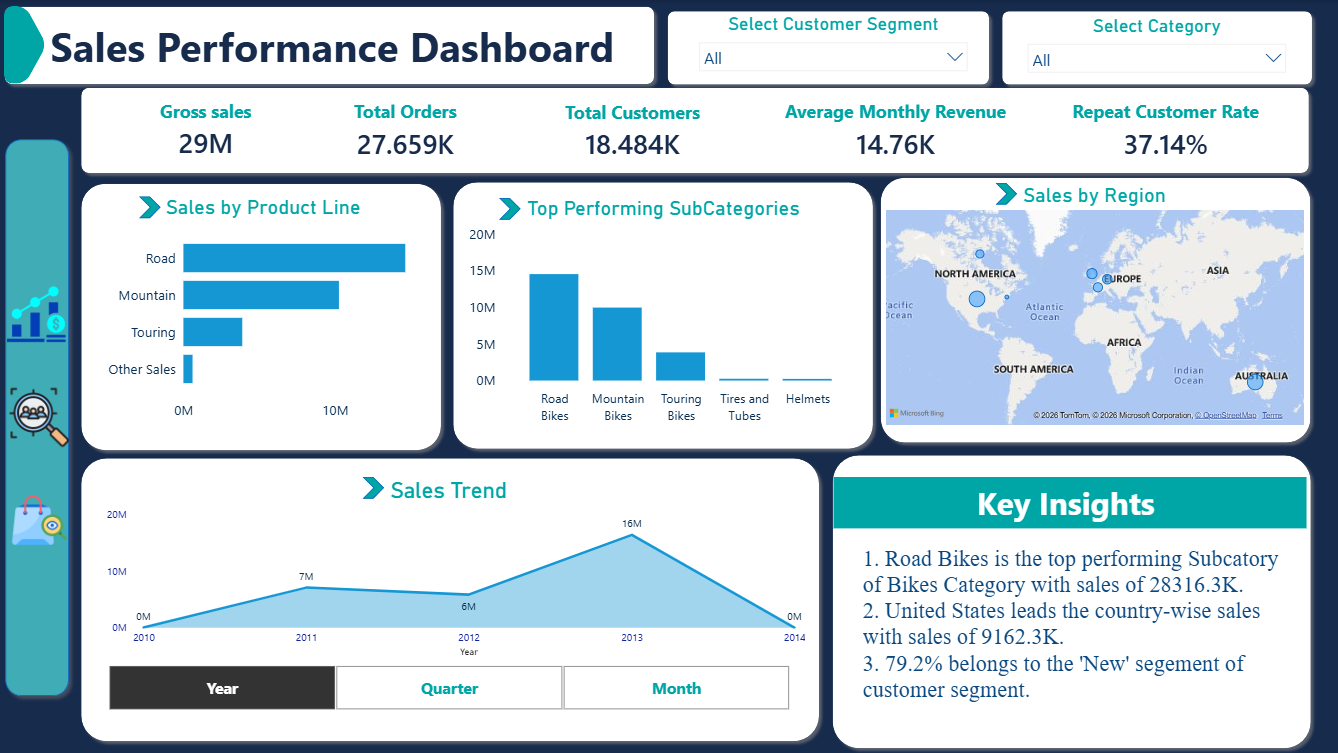

What the dashboard file says about the page in this screenshot:
{"tool":"powerbi","page":{"name":"Sales","canvas":[1600,900],"ordinal":0},"visuals":[{"type":"shape","box":[0,0,791.2,108.2],"z":0,"group":"g1"},{"type":"group","id":"g1","title":"Group 2","box":[0,0,1576.7,900.7],"z":0},{"type":"shape","box":[791.3,6,399.6,103.4],"z":1000,"group":"g1"},{"type":"textbox","box":[57.7,16.8,699.8,81.8],"z":1000},{"type":"shape","box":[1191,6,385.7,103.4],"z":2000,"group":"g1"},{"type":"slicer","fields":{"Values":["Select Date Granuality.Select Date Granuality"]},"box":[107.4,787.4,860.9,65.6],"z":2000},{"type":"shape","box":[535.9,208.8,516.9,334],"z":3000,"group":"g1"},{"type":"areaChart","title":"Sales Trend","fields":{"Category":["Gold fact_sales.month name"],"Y":["Sum(Gold fact_sales.sales_amount)"]},"box":[107.4,568.6,860.9,218.7],"z":3000},{"type":"columnChart","title":"Top Performing SubCategories","fields":{"Category":["Gold dim_product.Subcategory"],"Y":["Sum(Gold fact_sales.sales_amount)"]},"box":[556.7,234.6,475.2,278.4],"z":4000},{"type":"shape","box":[91.5,210.8,445.4,334],"z":5000,"group":"g1"},{"type":"map","title":"Sales by Region","fields":{"Category":["Gold dim_customers.country"],"Size":["Sum(Gold fact_sales.sales_amount)"]},"box":[1053.8,218.7,509,294.3],"z":5000},{"type":"shape","box":[1044.9,204.9,528.9,332],"z":6000,"group":"g1"},{"type":"barChart","title":"Sales by Product Line","fields":{"Category":["Gold dim_product.product_line"],"Y":["Sum(Gold fact_sales.sales_amount)"]},"box":[119.3,232.6,393.7,278.4],"z":6000},{"type":"slicer","title":"Select Customer Segment","fields":{"Values":["Gold cust_report.customer_segment"]},"box":[827.1,15.9,340,81.5],"z":7000},{"type":"shape","box":[91.5,538.8,896.7,353.9],"z":7000,"group":"g1"},{"type":"slicer","title":"Select Category","fields":{"Values":["Gold dim_product.category"]},"box":[1218.8,17.9,328.1,79.5],"z":8000},{"type":"shape","box":[988.2,534.8,586.5,365.8],"z":8000,"group":"g1"},{"type":"shape","box":[91.6,97.4,1481.4,117.8],"z":9000,"group":"g1"},{"type":"cardVisual","title":"Key Insights","fields":{"Data":["_Measures.Key Insights"]},"box":[1016,582.6,532.9,318.1],"z":9000},{"type":"cardVisual","fields":{"Data":["_Measures.Total sales"]},"box":[119.3,105.4,256.5,97.4],"z":10000},{"type":"cardVisual","fields":{"Data":["Count(Gold fact_sales.Order_number)"]},"box":[349.9,107.4,274.4,95.4],"z":11000},{"type":"cardVisual","fields":{"Data":["Count(Gold dim_customers.customer_key)"]},"box":[612.4,105.4,290.3,99.4],"z":12000},{"type":"cardVisual","fields":{"Data":["Avg(Gold product_report.avg_monthly_revenue)"]},"box":[902.7,107.4,338,95.4],"z":13000},{"type":"cardVisual","fields":{"Data":["_Measures.Repeat Customer Rate"]},"box":[1240.7,107.4,306.2,95.4],"z":14000},{"type":"shape","box":[8,6,49.7,99.4],"z":15000},{"type":"shape","box":[169,234.6,25.8,25.8],"z":16000},{"type":"shape","box":[598.5,236.6,25.8,25.8],"z":17000},{"type":"shape","box":[1191,218.7,25.8,25.8],"z":18000},{"type":"shape","box":[435.4,568.6,25.8,25.8],"z":19000},{"type":"textbox","box":[998.1,568.6,564.7,61.6],"z":20000},{"type":"shape","box":[0,157.1,93.4,682],"z":20001},{"type":"image","box":[8,336,77.5,79.5],"z":20002},{"type":"image","box":[11.9,457.3,73.6,83.5],"z":20003},{"type":"image","box":[11.9,582.6,73.6,77.5],"z":20004}]}

Visuals, with their boxes in screenshot pixels (x1, y1, x2, y2), scaled from the page's 1600x900 canvas onto the 1338x753 screenshot:
shape: (0, 0, 662, 91)
"Group 2" group: (0, 0, 1319, 752)
shape: (662, 5, 996, 92)
textbox: (48, 14, 633, 82)
shape: (996, 5, 1319, 92)
slicer - Select Date Granuality.Select Date Granuality: (90, 659, 810, 714)
shape: (448, 175, 880, 454)
"Sales Trend" areaChart: (90, 476, 810, 659)
"Top Performing SubCategories" columnChart: (466, 196, 863, 429)
shape: (77, 176, 449, 456)
"Sales by Region" map: (881, 183, 1307, 429)
shape: (874, 171, 1316, 449)
"Sales by Product Line" barChart: (100, 195, 429, 428)
"Select Customer Segment" slicer: (692, 13, 976, 81)
shape: (77, 451, 826, 747)
"Select Category" slicer: (1019, 15, 1294, 81)
shape: (826, 447, 1317, 752)
shape: (77, 81, 1315, 180)
"Key Insights" cardVisual: (850, 487, 1295, 752)
cardVisual - _Measures.Total sales: (100, 88, 314, 170)
cardVisual - Count(Gold fact_sales.Order_number): (293, 90, 522, 170)
cardVisual - Count(Gold dim_customers.customer_key): (512, 88, 755, 171)
cardVisual - Avg(Gold product_report.avg_monthly_revenue): (755, 90, 1038, 170)
cardVisual - _Measures.Repeat Customer Rate: (1038, 90, 1294, 170)
shape: (7, 5, 48, 88)
shape: (141, 196, 163, 218)
shape: (500, 198, 522, 220)
shape: (996, 183, 1018, 205)
shape: (364, 476, 386, 497)
textbox: (835, 476, 1307, 527)
shape: (0, 131, 78, 702)
image: (7, 281, 71, 348)
image: (10, 383, 71, 452)
image: (10, 487, 71, 552)
